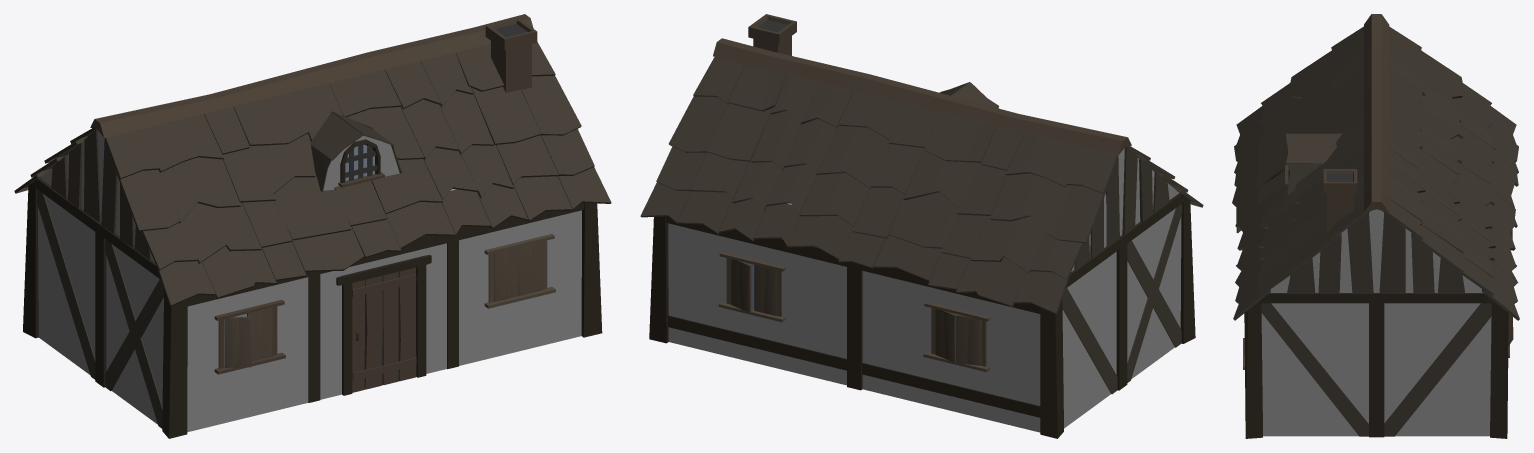
The model's file is S_House_1.fbx.
3 views of the same model, side by side, from view 1: azimuth 30°, elevation 25°; view 2: azimuth 150°, elevation 25°; view 3: azimuth 270°, elevation 25° (orthographic). The views are drawn at different scales.
Visible parts, largest first — view 1: House; view 2: House; view 3: House.
Boxes of the visible parts, x1=… form: House: x1=14, y1=14, x2=611, y2=438; House: x1=640, y1=14, x2=1203, y2=438; House: x1=1232, y1=14, x2=1519, y2=438.
Size of the model in its own units: 25.16 by 15 by 15.89.
